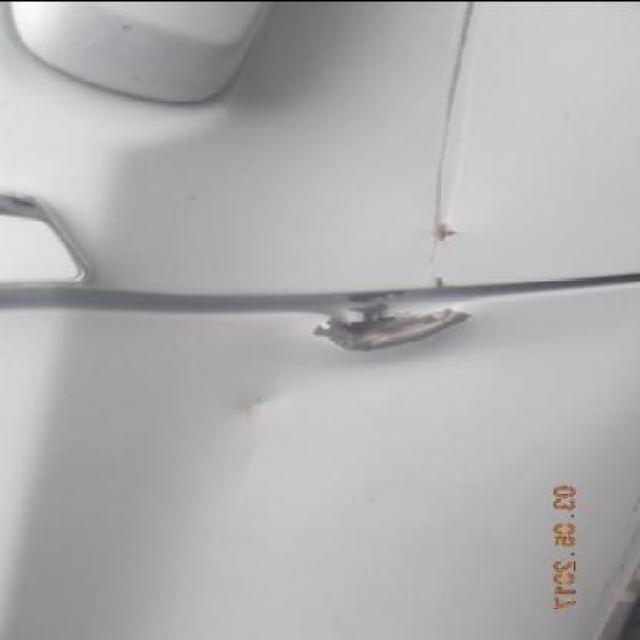damage: (421, 0, 479, 291), (313, 303, 489, 354), (236, 391, 278, 482), (345, 285, 409, 304)
